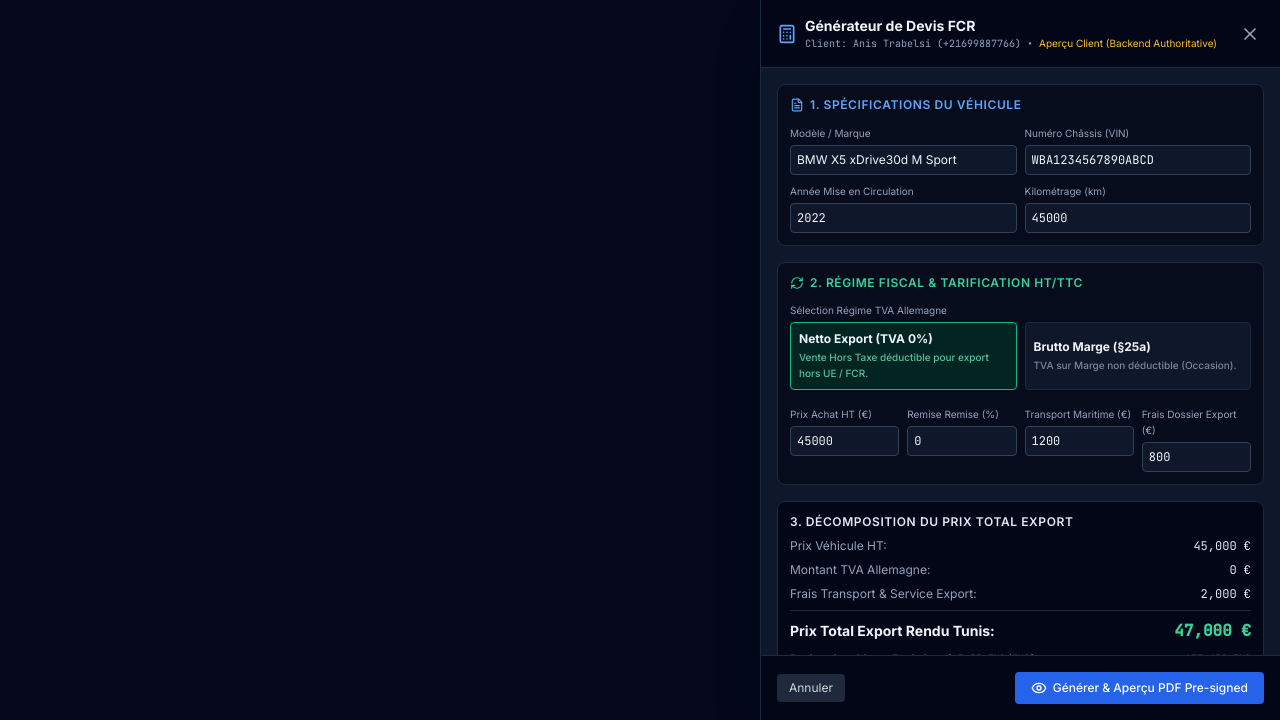
Test case: Frontend Core Components Test Suite (TASK-1902) › renders QuotationBuilder calculator and manager approval warning
Expected: the heading "Générateur de Devis FCR" is shown, [805,17,975,34]
Expected: the text "Anis Trabelsi" is shown, [853,37,931,50]
Replace the text in the number field labelled "Remise Remise (%)" with "8". click: (962, 441)
box: [907,426,1017,456]
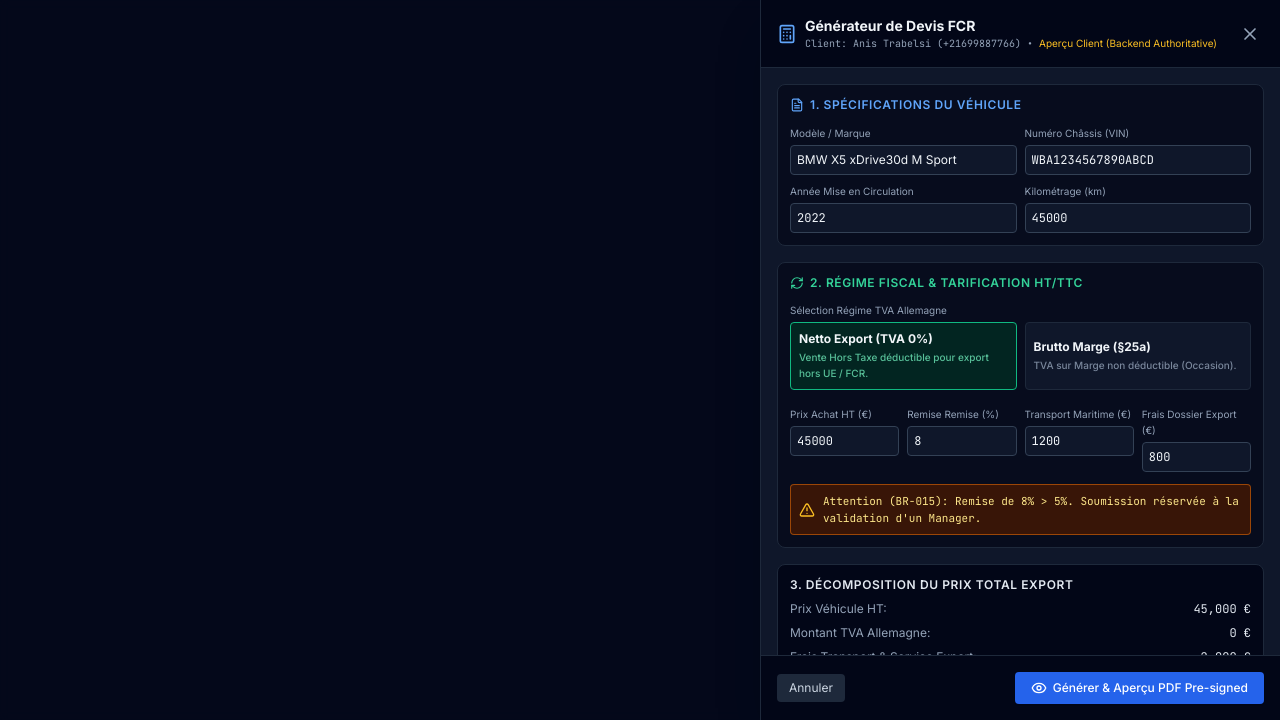
Expected: the text "validation d'un Manager" is shown, [823,494,1239,524]
